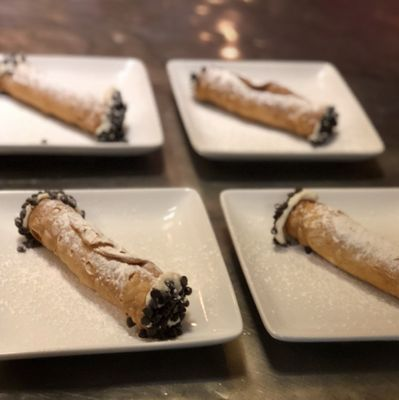soup: (272, 188, 398, 298), (189, 65, 340, 144)
